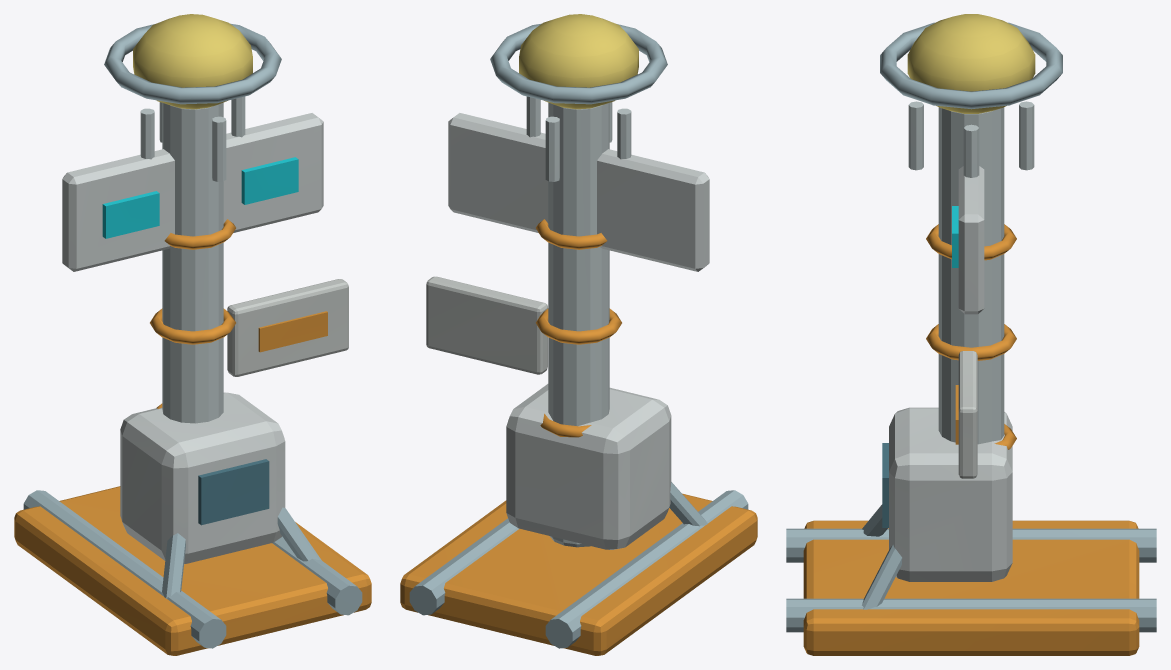
Rendered from runner_day_signal_pylon_v1.glb.
The picture shows the model from 3 angles, left to right: view 1: azimuth 30°, elevation 25°; view 2: azimuth 150°, elevation 25°; view 3: azimuth 270°, elevation 25°; orthographic projection. The views are drawn at different scales.
Parts seen in each view (by area): view 1: runner_day_signal_pylon_v1; view 2: runner_day_signal_pylon_v1; view 3: runner_day_signal_pylon_v1.
Boxes of the visible parts, bbox=[...] form: runner_day_signal_pylon_v1: bbox=[14, 14, 371, 655]; runner_day_signal_pylon_v1: bbox=[400, 14, 757, 655]; runner_day_signal_pylon_v1: bbox=[786, 14, 1156, 655].
Size of the model in its own units: 1.97 by 3.75 by 2.15.
